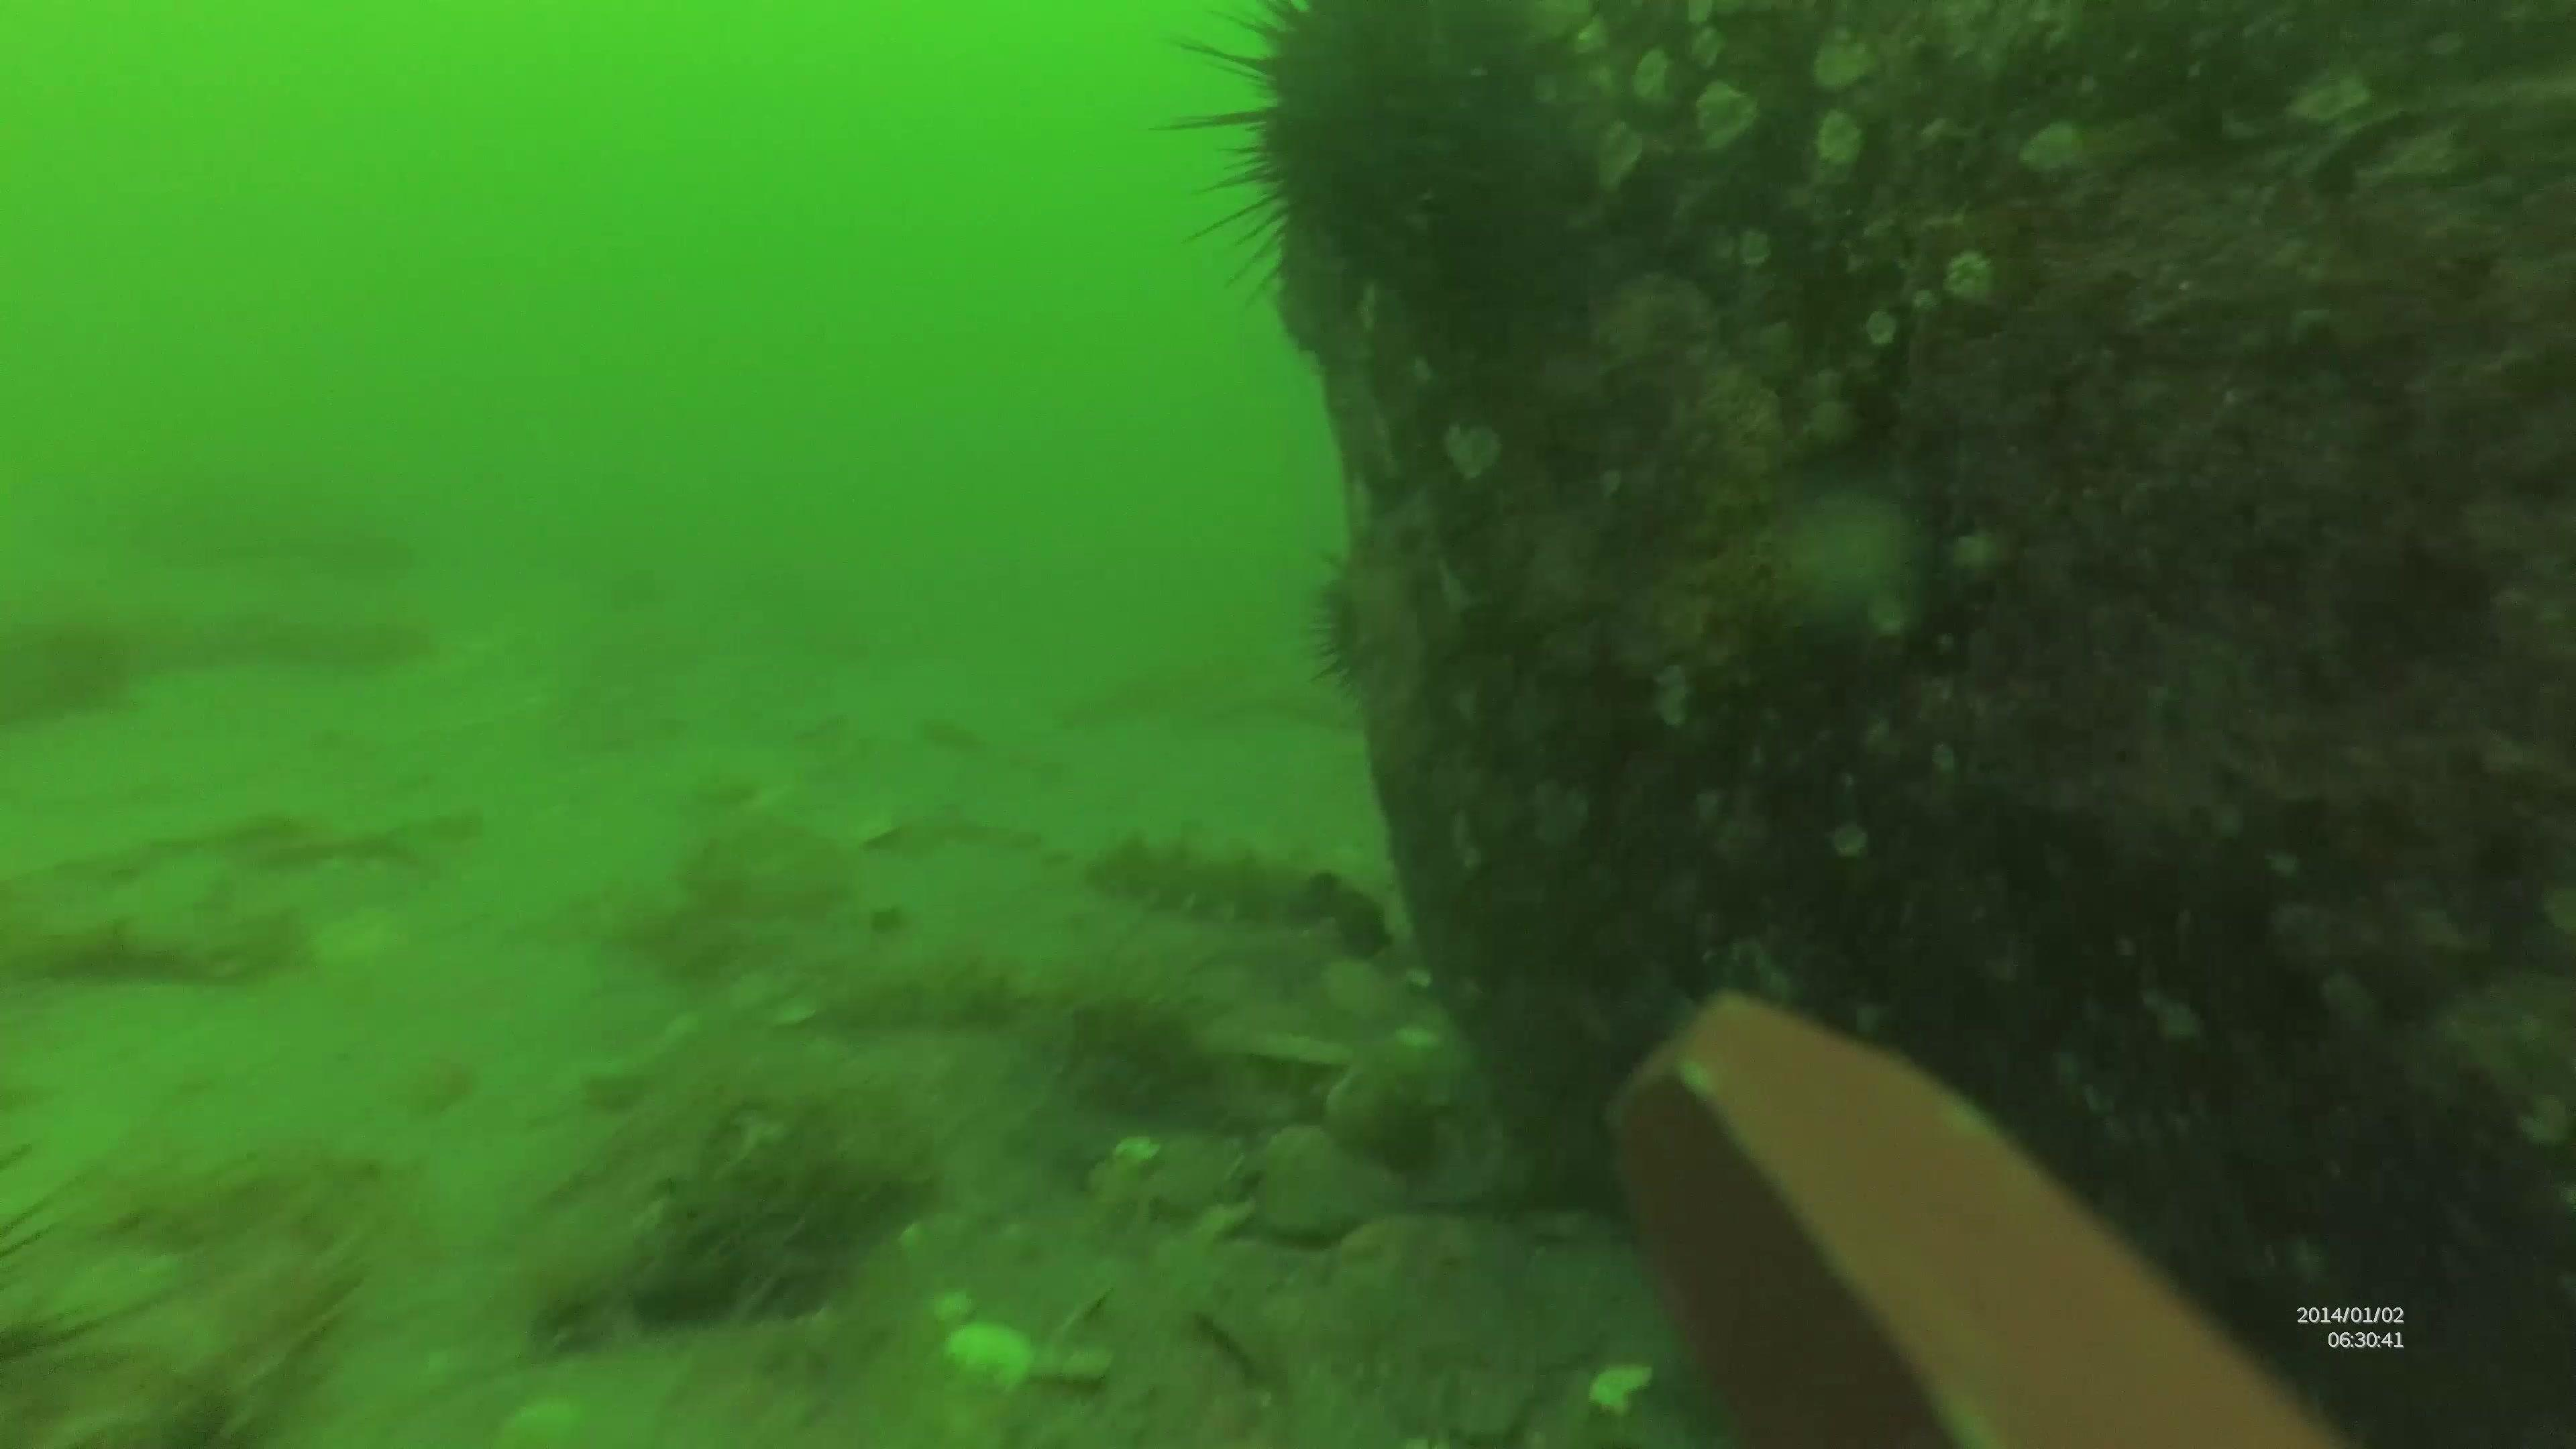echinus: (1138, 4, 1537, 313), (1300, 541, 1474, 718)
holothurian: (1081, 826, 1348, 938)
